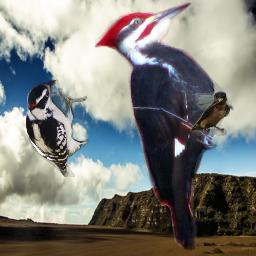Swallow: (190, 91, 230, 136)
Woodpecker: (95, 2, 234, 251), (26, 80, 89, 177)
